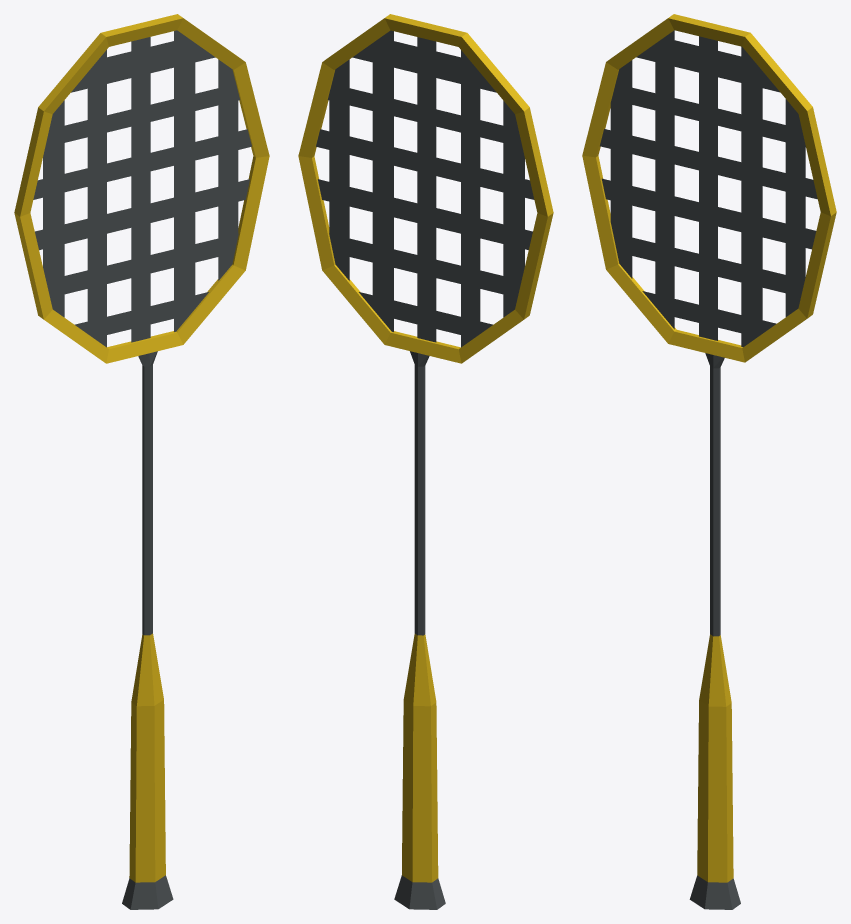
Rendered from Badminton_racket_yellow.fbx.
3 views of the same model, side by side, from view 1: azimuth 30°, elevation 25°; view 2: azimuth 150°, elevation 25°; view 3: azimuth 330°, elevation 25° (orthographic).
Parts seen in each view (by area): view 1: Badminton_racket_yellow; view 2: Badminton_racket_yellow; view 3: Badminton_racket_yellow.
Boxes of the visible parts, x1,y1,x2,y2 form: Badminton_racket_yellow: (14,14,269,909); Badminton_racket_yellow: (298,14,553,909); Badminton_racket_yellow: (582,14,836,909).
Size of the model in its own units: 26.05 by 87.53 by 3.86.
